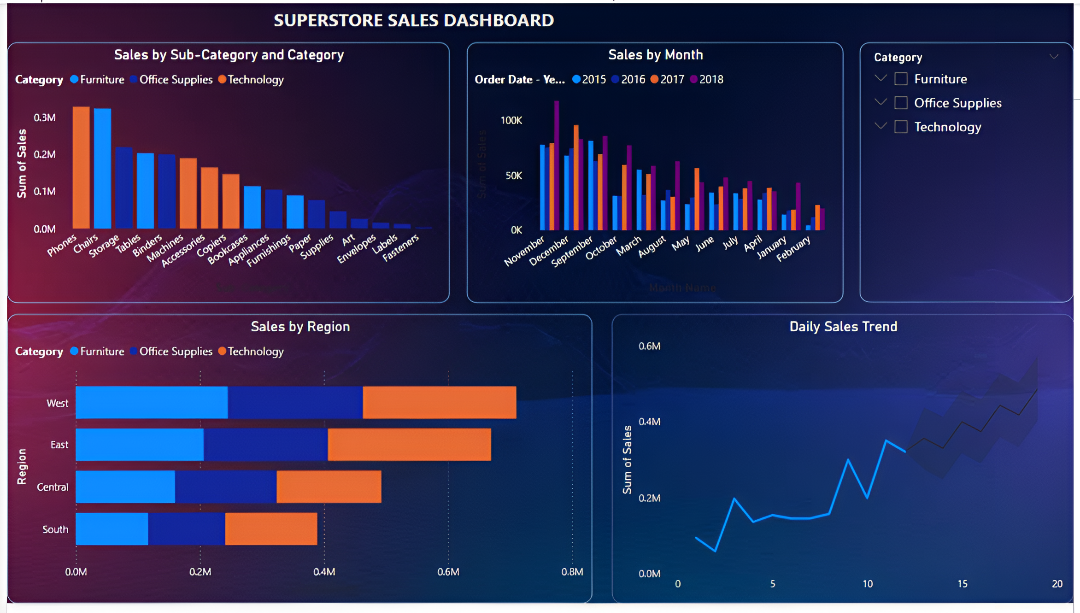

The dashboard page shown, as its layout file describes it:
{"tool":"powerbi","page":{"name":"Page 1","canvas":[1280,720],"ordinal":0},"visuals":[{"type":"textbox","box":[9.6,0,963.3,94.7],"z":0},{"type":"lineChart","title":"Daily Sales Trend","fields":{"Category":["train.Order Date - Month"],"Y":["Sum(train.Sales)"]},"box":[725.9,373.3,554.4,347],"z":1000},{"type":"barChart","title":"Sales by Region","fields":{"Category":["train.Region"],"Y":["Sum(train.Sales)"],"Series":["train.Category"]},"box":[0,373.3,702.4,347],"z":2000},{"type":"columnChart","title":"Sales by Sub-Category and Category","fields":{"Category":["train.Sub-Category"],"Series":["train.Category"],"Y":["Sum(train.Sales)"]},"box":[0,47,530.9,312.5],"z":3000},{"type":"clusteredColumnChart","title":"Sales by Month ","fields":{"Category":["train.Month Name"],"Y":["Sum(train.Sales)"],"Series":["train.Order Date - Year"]},"box":[551.7,47,452.1,312.5],"z":4000},{"type":"slicer","fields":{"Values":["train.Category","train.Order Date - Year"]},"box":[1023,47,257,312],"z":5000}]}

Visuals, with their boxes in screenshot pixels (x1, y1, x2, y2), scaled from the page's 1280x720 canvas onto the 1080x613 screenshot:
textbox: bbox(8, 0, 821, 81)
"Daily Sales Trend" lineChart: bbox(612, 318, 1079, 612)
"Sales by Region" barChart: bbox(0, 318, 593, 612)
"Sales by Sub-Category and Category" columnChart: bbox(0, 40, 448, 306)
"Sales by Month " clusteredColumnChart: bbox(465, 40, 847, 306)
slicer - train.Category x train.Order Date - Year: bbox(863, 40, 1079, 306)
